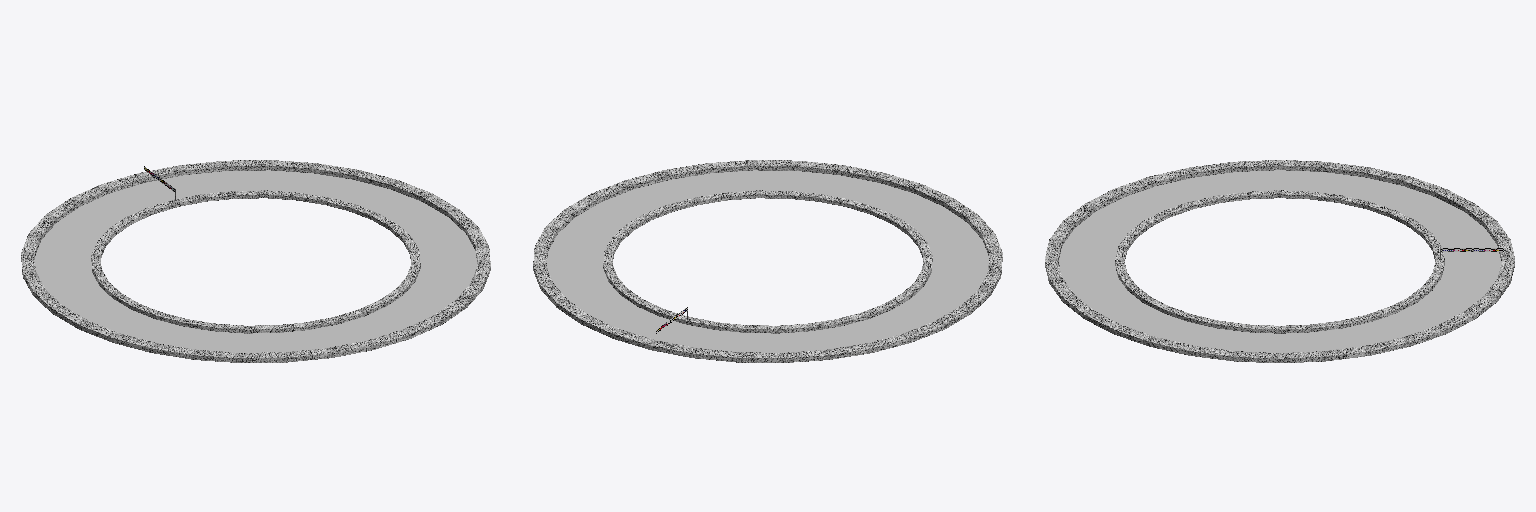
3 renders of one model, left to right at view 1: azimuth 30°, elevation 25°; view 2: azimuth 150°, elevation 25°; view 3: azimuth 270°, elevation 25°, orthographic.
Parts seen in each view (by area): view 1: Circle.001, Circle.000_Circle.006, Circle.002_Circle.007; view 2: Circle.001, Circle.000_Circle.006, Circle.002_Circle.007; view 3: Circle.001, Circle.000_Circle.006, Circle.002_Circle.007.
Part boxes in pixels (bbox=[...]): Circle.001: bbox=[35, 170, 476, 352]; Circle.000_Circle.006: bbox=[21, 160, 490, 362]; Circle.002_Circle.007: bbox=[91, 190, 420, 333]; Circle.001: bbox=[547, 170, 988, 352]; Circle.000_Circle.006: bbox=[533, 160, 1002, 362]; Circle.002_Circle.007: bbox=[603, 190, 932, 333]; Circle.001: bbox=[1059, 170, 1500, 352]; Circle.000_Circle.006: bbox=[1045, 160, 1514, 362]; Circle.002_Circle.007: bbox=[1115, 190, 1444, 333].
Bounding box in the file's own units: 106 × 4 × 106.
Materials: 7 (3 with a texture image).